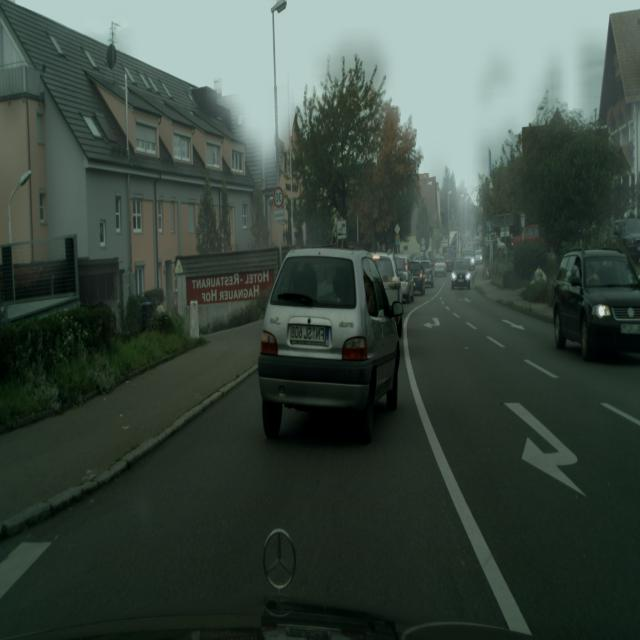person: (257, 246, 401, 443), (552, 248, 640, 362), (372, 251, 403, 329), (394, 255, 415, 304), (451, 256, 473, 290), (408, 256, 427, 295), (420, 256, 435, 284), (433, 257, 446, 274)
